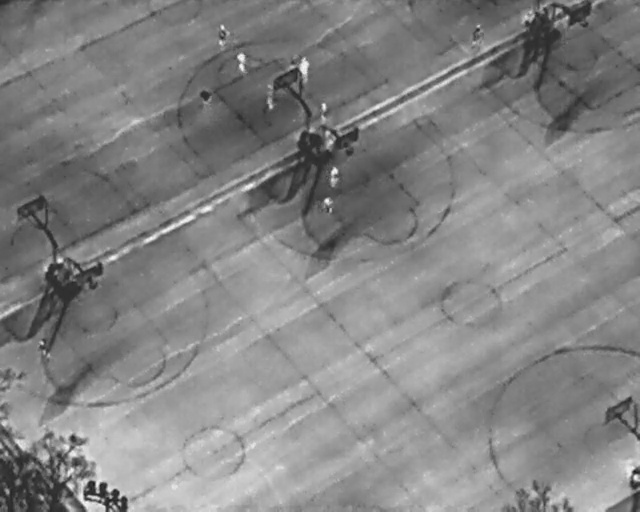Person: (468, 21, 487, 52), (34, 337, 52, 363), (296, 55, 311, 83), (519, 6, 536, 29), (327, 165, 340, 191), (316, 99, 329, 124), (217, 21, 229, 48), (264, 84, 276, 111), (235, 50, 247, 75), (320, 195, 334, 216), (324, 131, 336, 151), (199, 87, 211, 104)
